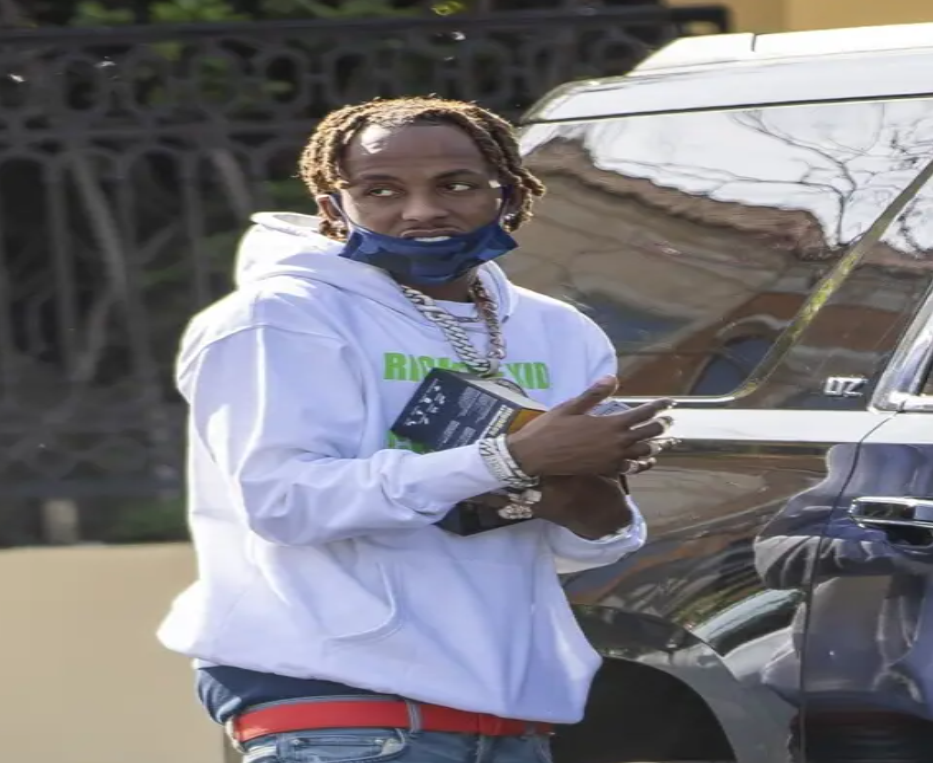mask_weared_incorrect: (300, 97, 541, 288)
